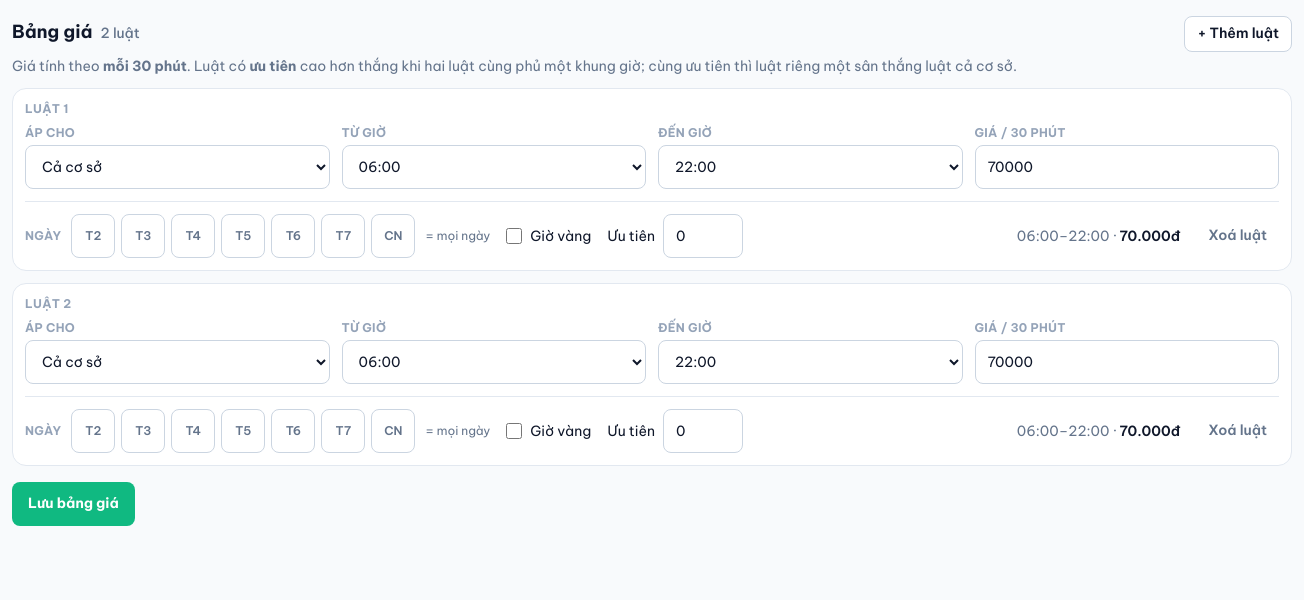
Scenario: PriceRuleEditor › lưu báo lỗi (luật chồng nhau) thì bảng đang sửa còn nguyên, và luật có số thứ tự
Replace the text in the 2nd number field showing "70000" with "90000" at point(1127, 362), box [974, 340, 1279, 384]
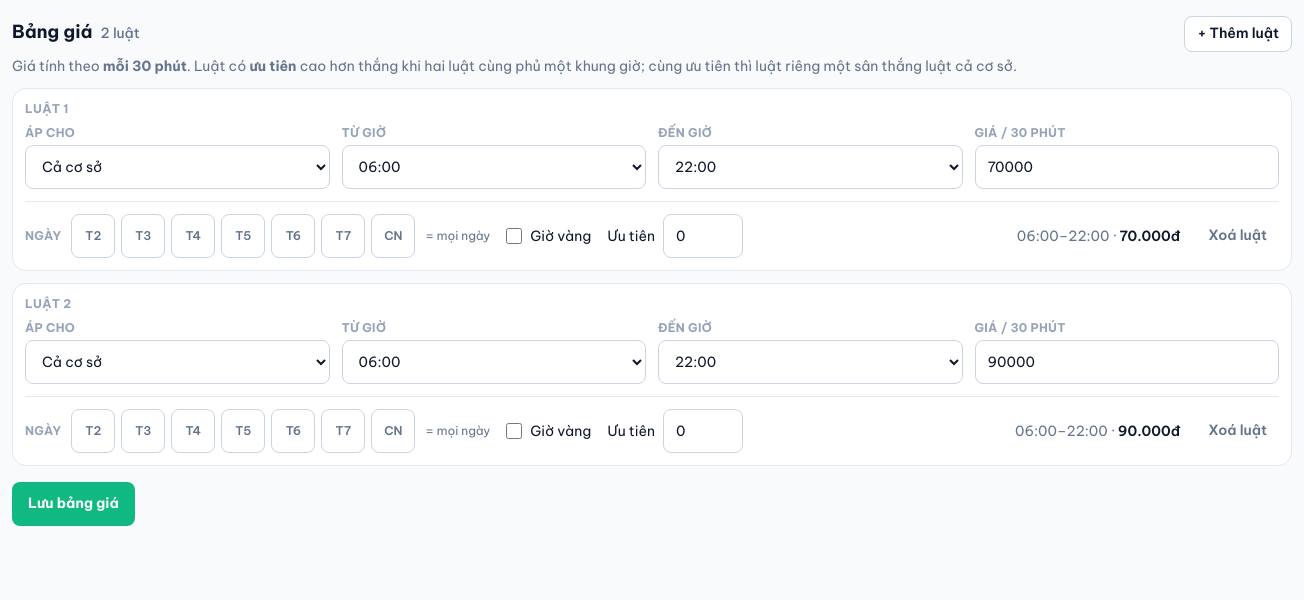
Submit the form, box [12, 482, 135, 526]
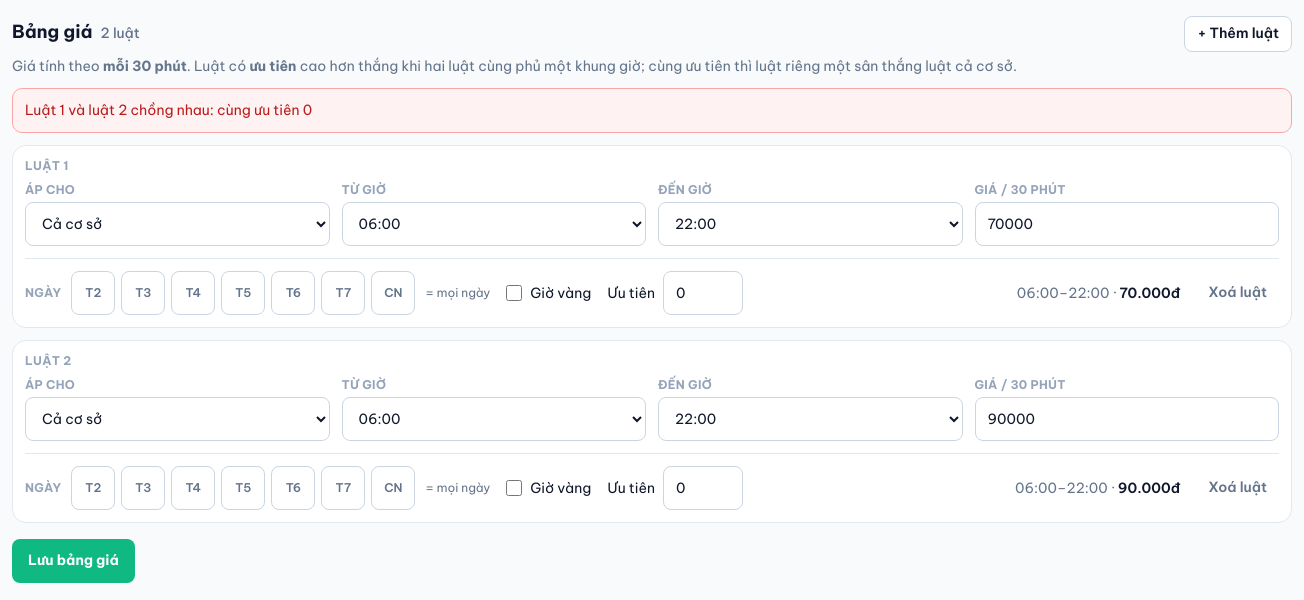
Check: the text "Luật 2" is shown, box [25, 353, 72, 368]
Check: the message shows "Luật 1 và luật 2 chồng nhau", box [25, 101, 312, 119]
